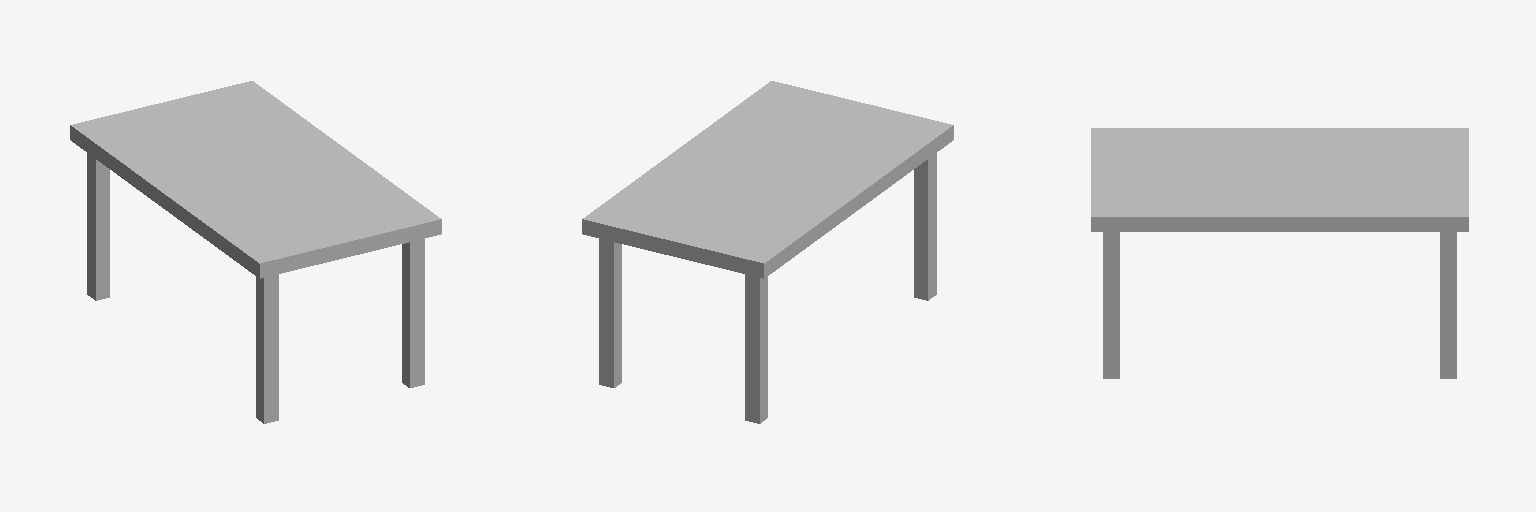
File: tisch.obj
The picture shows the model from 3 angles: view 1: azimuth 30°, elevation 25°; view 2: azimuth 150°, elevation 25°; view 3: azimuth 270°, elevation 25°; orthographic projection.
Visible parts, largest first — view 1: Box005, Box003, Box002, Box004; view 2: Box005, Box004, Box001, Box003; view 3: Box005, Box001, Box002.
Boxes of the visible parts, box(x1,y1,x2,y2) form: Box005: box(70, 81, 441, 278); Box003: box(256, 274, 278, 423); Box002: box(402, 239, 424, 387); Box004: box(87, 153, 109, 300); Box005: box(582, 81, 953, 278); Box004: box(745, 274, 767, 423); Box001: box(599, 239, 621, 387); Box003: box(914, 153, 936, 300); Box005: box(1091, 128, 1468, 231); Box001: box(1440, 232, 1456, 378); Box002: box(1103, 232, 1119, 378).
Size of the model in its own units: 98.43 by 86.61 by 177.